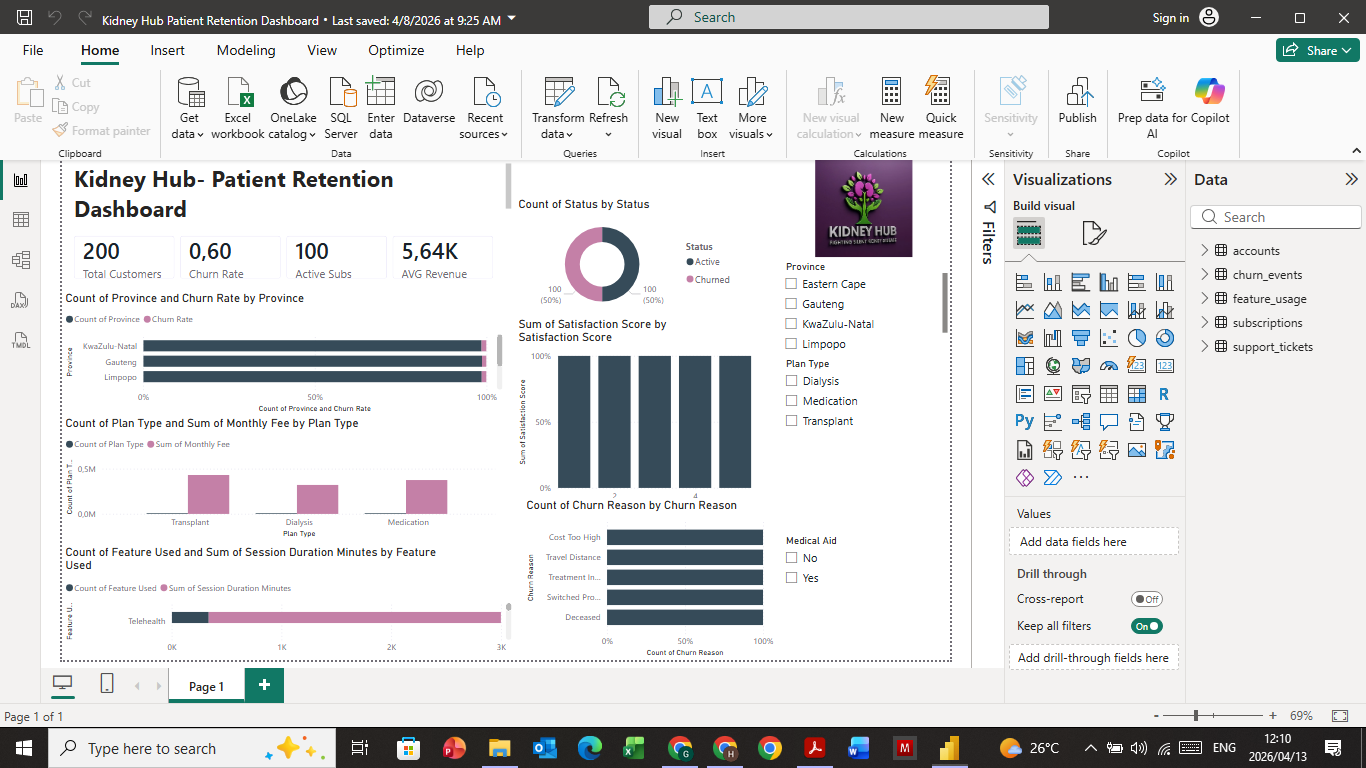

What the dashboard file says about the page in this screenshot:
{"tool":"powerbi","page":{"name":"Page 1","canvas":[1280,720],"ordinal":0},"visuals":[{"type":"cardVisual","fields":{"Data":["accounts.Total Customers","accounts.Churn Rate","accounts.Active Subs","accounts.AVG Revenue"]},"box":[0,92.2,639.4,96.5],"z":0},{"type":"hundredPercentStackedBarChart","fields":{"Category":["accounts.Province"],"Y":["CountNonNull(accounts.Province)","accounts.Churn Rate"]},"box":[0,188.6,639.4,180],"z":1000},{"type":"clusteredColumnChart","fields":{"Category":["subscriptions.Plan Type"],"Y":["CountNonNull(subscriptions.Plan Type)","Sum(subscriptions.Monthly Fee)"]},"box":[0,368.6,629.3,180],"z":2000},{"type":"donutChart","fields":{"Category":["subscriptions.Status"],"Y":["CountNonNull(subscriptions.Status)"]},"box":[652.3,53.3,324,172.8],"z":3000},{"type":"barChart","fields":{"Category":["feature_usage.Feature Used"],"Y":["CountNonNull(feature_usage.Feature Used)","Sum(feature_usage.Session Duration Minutes)"]},"box":[0,554.4,652.3,165.6],"z":4000},{"type":"hundredPercentStackedColumnChart","fields":{"Y":["Sum(support_tickets.Satisfaction Score)"],"Category":["support_tickets.Satisfaction Score"]},"box":[652.3,226.1,345.6,285.1],"z":5000},{"type":"hundredPercentStackedBarChart","fields":{"Category":["churn_events.Churn Reason"],"Y":["CountNonNull(churn_events.Churn Reason)"]},"box":[663.8,486.7,365.8,233.3],"z":6000},{"type":"slicer","fields":{"Values":["accounts.Province"]},"box":[1029.6,139.7,250.6,139.7],"z":7000},{"type":"slicer","fields":{"Values":["subscriptions.Plan Type"]},"box":[1029.6,279.4,250.6,231.8],"z":8000},{"type":"slicer","fields":{"Values":["accounts.Medical Aid"]},"box":[1029.6,534.2,250.6,185.8],"z":9000},{"type":"textbox","box":[13,0,639.4,92.2],"z":10000},{"type":"image","box":[1029.6,0,250.6,139.7],"z":10002}]}

Visuals, with their boxes on the page's 1280x720 design canvas (x1, y1, x2, y2). These are canvas units, not pixel positions in the 1366x768 screenshot, which may show the page scaled, cropped or inside an application window:
cardVisual - accounts.Total Customers x accounts.Churn Rate: left=0, top=92, right=639, bottom=189
hundredPercentStackedBarChart - accounts.Province x CountNonNull(accounts.Province): left=0, top=189, right=639, bottom=369
clusteredColumnChart - subscriptions.Plan Type x CountNonNull(subscriptions.Plan Type): left=0, top=369, right=629, bottom=549
donutChart - subscriptions.Status x CountNonNull(subscriptions.Status): left=652, top=53, right=976, bottom=226
barChart - feature_usage.Feature Used x CountNonNull(feature_usage.Feature Used): left=0, top=554, right=652, bottom=720
hundredPercentStackedColumnChart - Sum(support_tickets.Satisfaction Score) x support_tickets.Satisfaction Score: left=652, top=226, right=998, bottom=511
hundredPercentStackedBarChart - churn_events.Churn Reason x CountNonNull(churn_events.Churn Reason): left=664, top=487, right=1030, bottom=720
slicer - accounts.Province: left=1030, top=140, right=1280, bottom=279
slicer - subscriptions.Plan Type: left=1030, top=279, right=1280, bottom=511
slicer - accounts.Medical Aid: left=1030, top=534, right=1280, bottom=720
textbox: left=13, top=0, right=652, bottom=92
image: left=1030, top=0, right=1280, bottom=140
